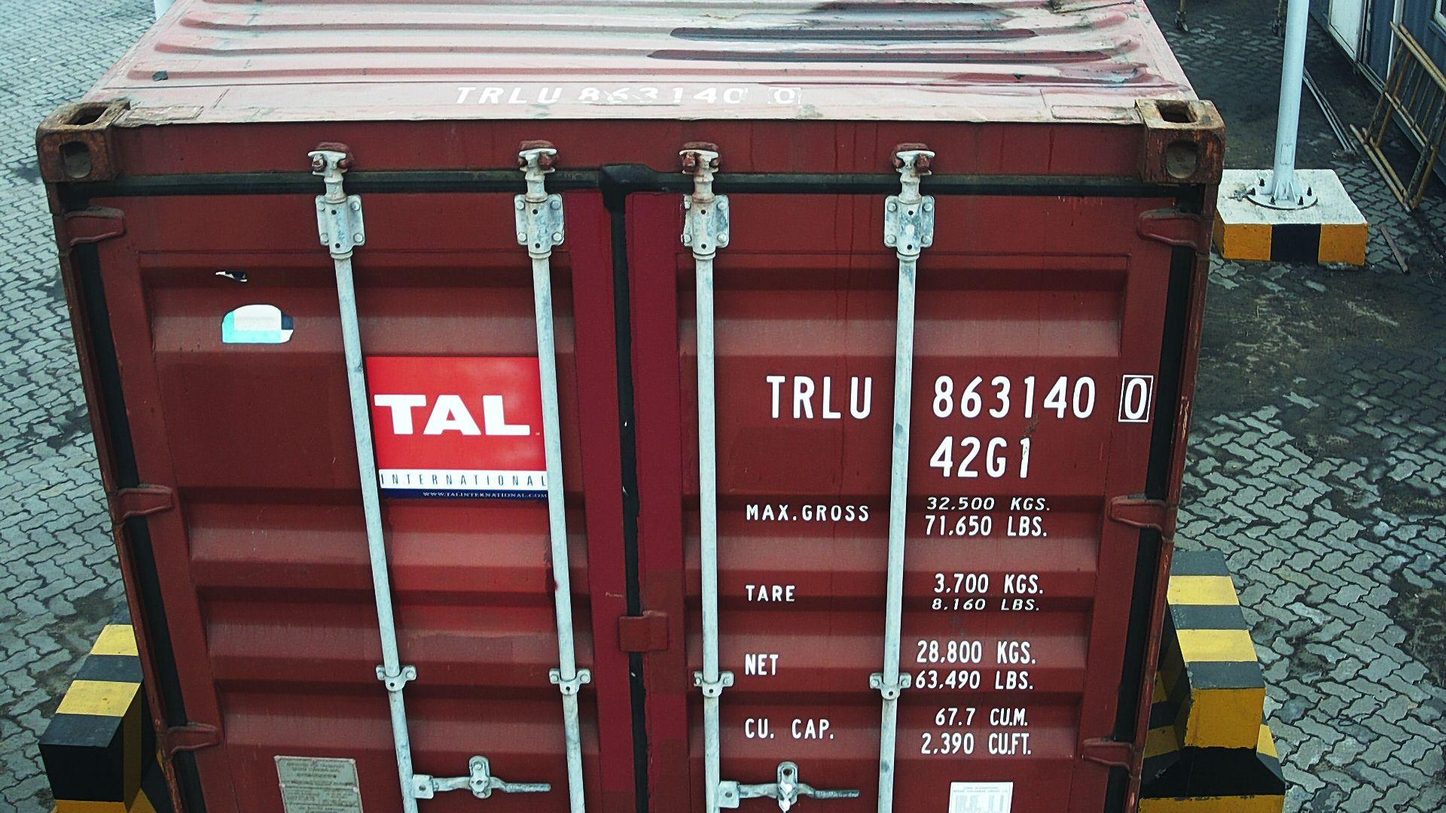container-numbers: (761, 370, 1158, 427), (444, 81, 807, 107), (926, 432, 1036, 482)
